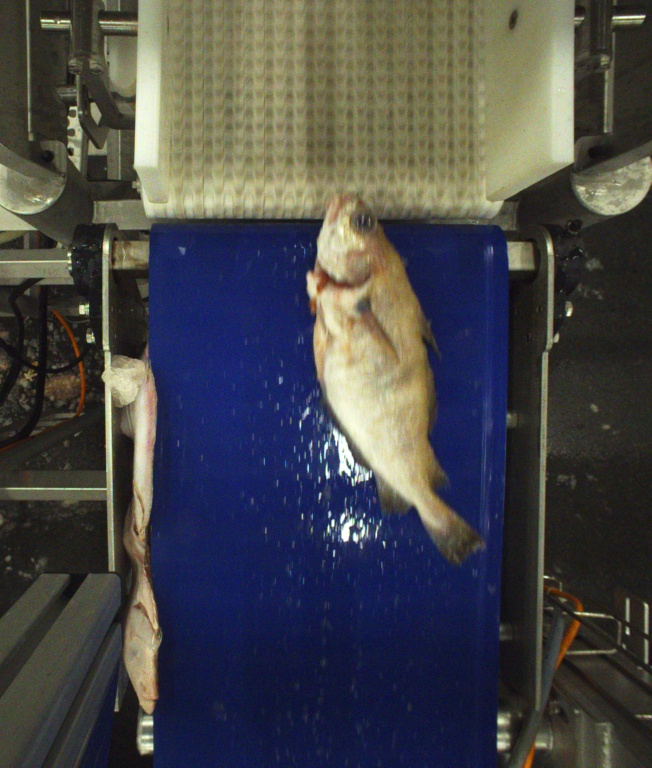BIB: (304, 192, 483, 565)
